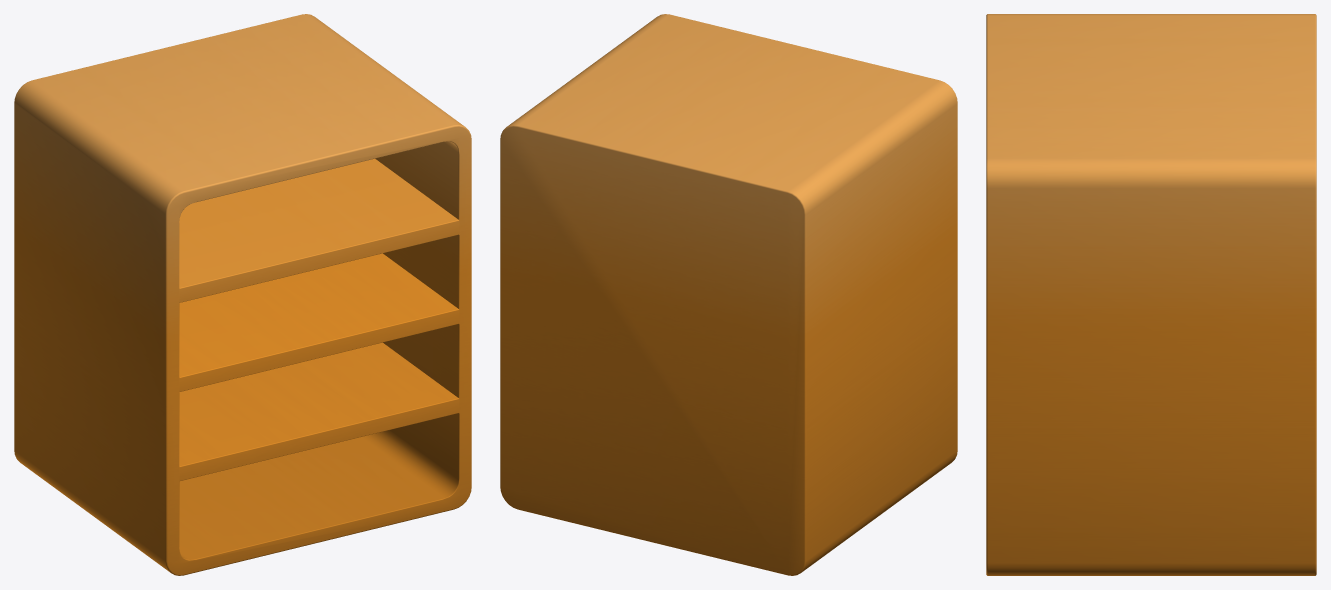
The model's file is cabinet.fbx.
3 renders of one model, left to right at view 1: azimuth 30°, elevation 25°; view 2: azimuth 150°, elevation 25°; view 3: azimuth 270°, elevation 25°, orthographic. The views are drawn at different scales.
Visible parts, largest first — view 1: Cube.002; view 2: Cube.002; view 3: Cube.002.
Boxes of the visible parts, x1=… form: Cube.002: x1=14, y1=14, x2=471, y2=575; Cube.002: x1=500, y1=14, x2=957, y2=575; Cube.002: x1=986, y1=14, x2=1316, y2=575.
Bounding box in the file's own units: 84.73 × 102 × 73.25.
Materials: 1 (1 with a texture image).
